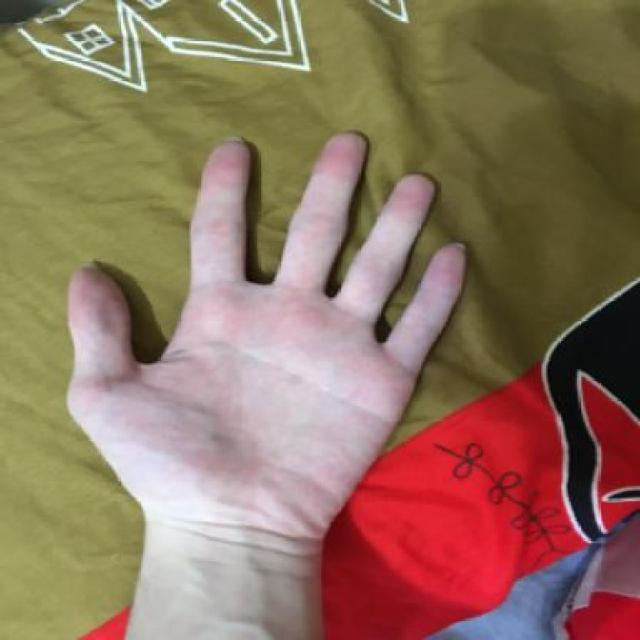bare_hand: (43, 116, 477, 566)
